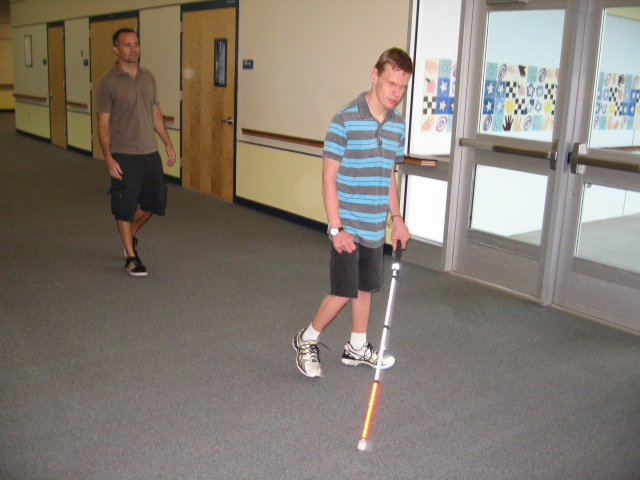Person: (292, 46, 413, 378), (95, 28, 178, 278)
